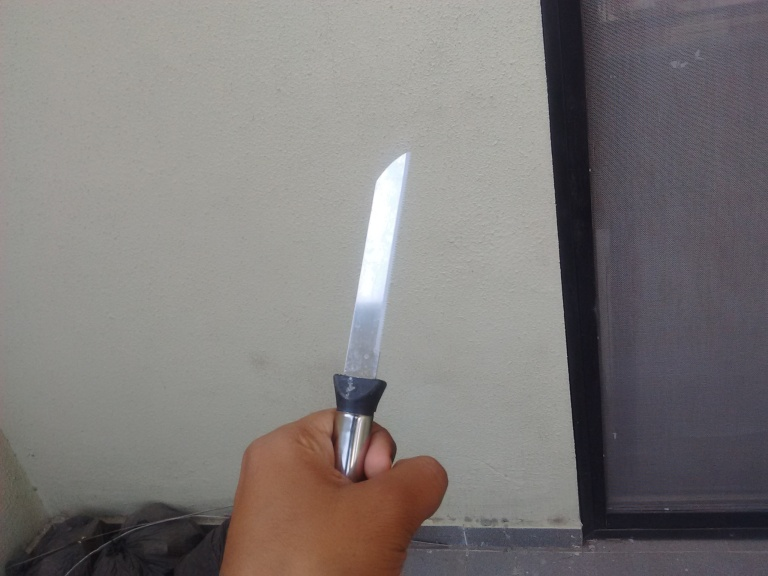knife: (329, 151, 414, 474)
